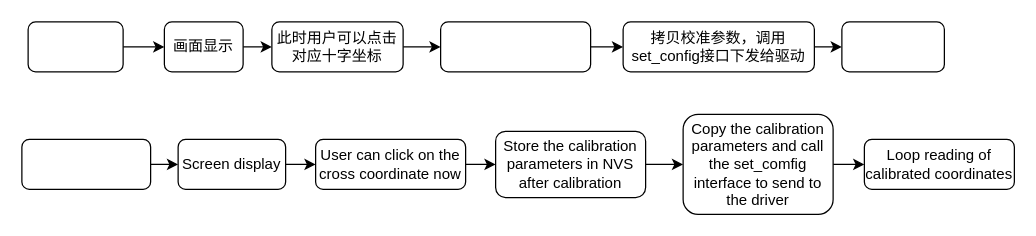
Image size: 1036x236. Some labels were removed from this diagram. The centre of each missing label's shape, as x and y in pixels:
System power on: pixel 86 163
循环读取已校准坐标: pixel 892 46
校准完成后，在NVS中存储校准参数: pixel 515 46
系统上电: pixel 75 46
